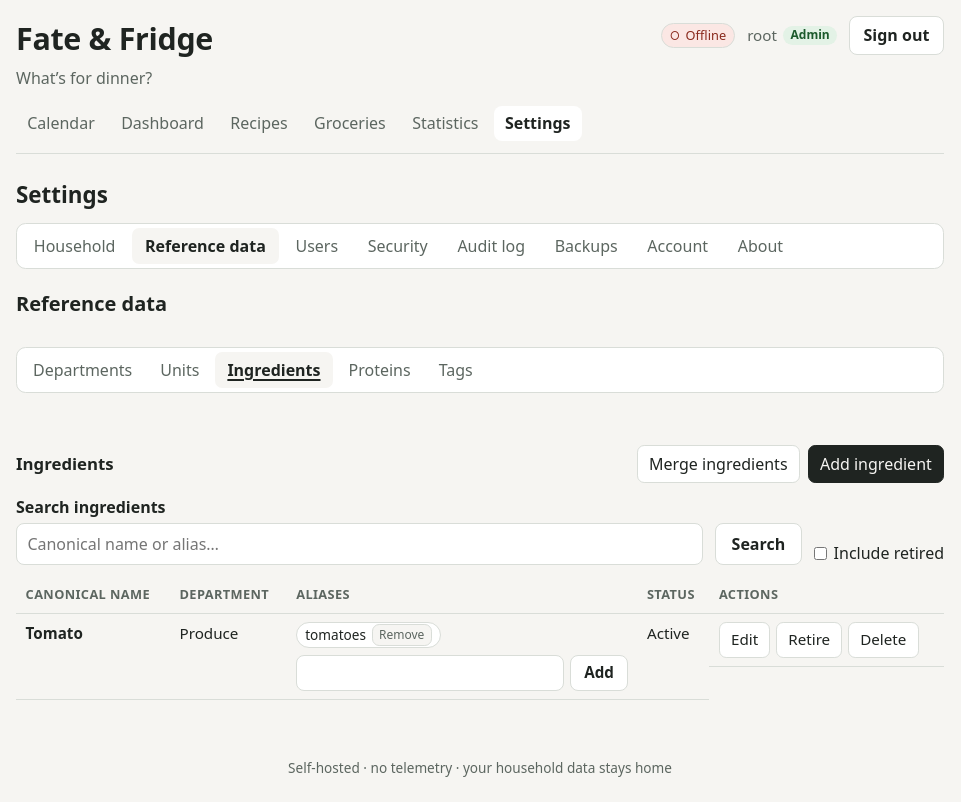
Test: ingredients tab › keeps the alias form open and shows the ALIAS_EXISTS message
The width and height of the screenshot is (961, 802).
Type "tomatoes" into the field named "New alias for Tomato". click: (430, 673)
box: left=296, top=655, right=564, bottom=691
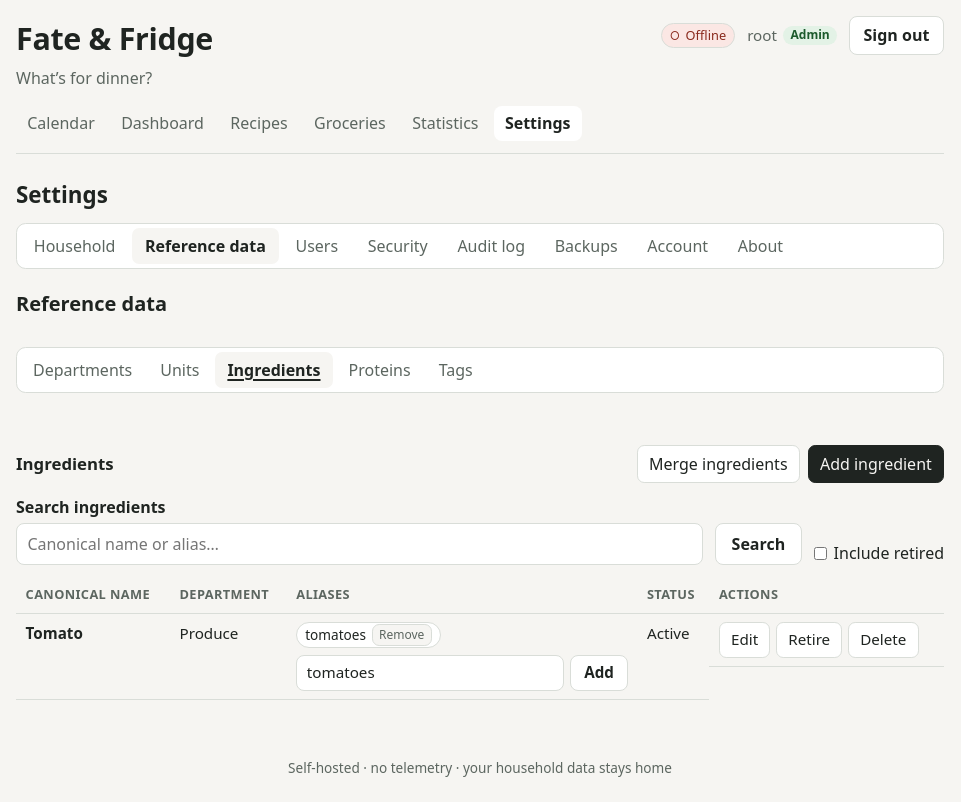
Click the button with aria-label "Add alias to Tomato". click: click(599, 673)
box: left=570, top=655, right=628, bottom=691
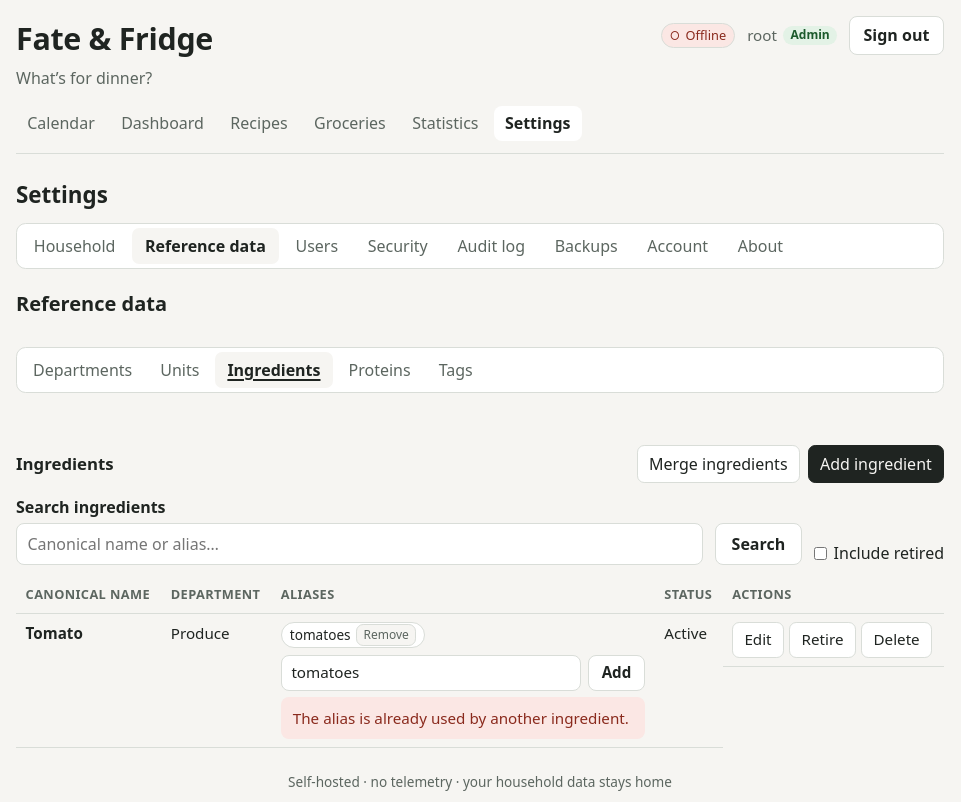
Expected: the message reads "The alias is already used by another ingredient.", left=293, top=708, right=629, bottom=728
